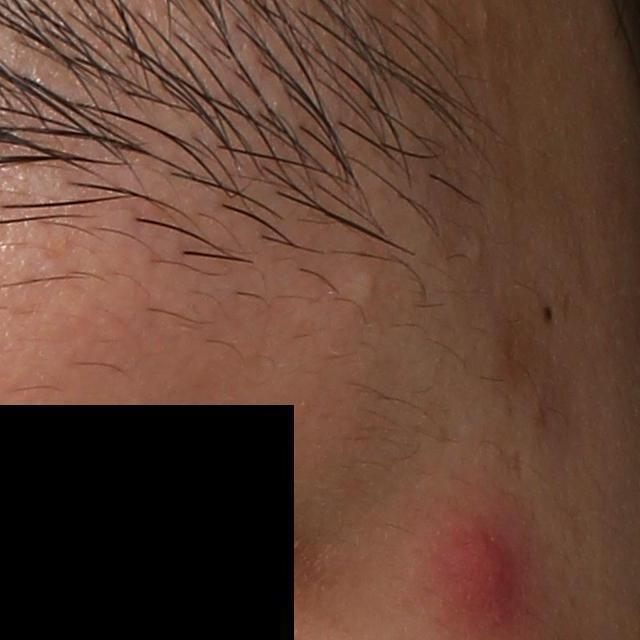comedo: (353, 268, 383, 308)
nevus: (541, 304, 555, 323)
papule: (415, 506, 526, 631)
